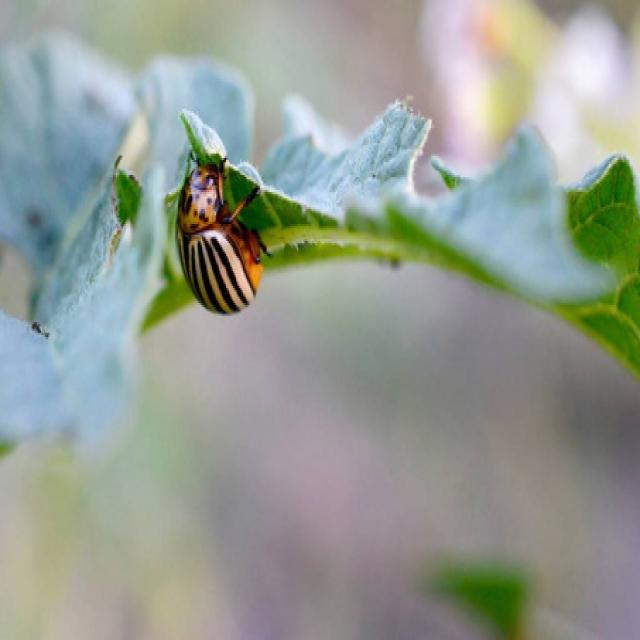ShuCaiHuaBanChong-Grown-: (170, 158, 306, 334)
